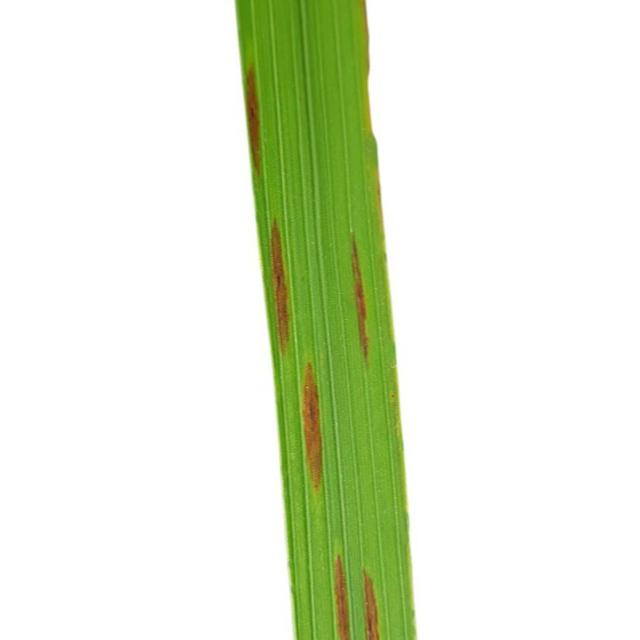Narrow brown: (220, 0, 457, 640)
